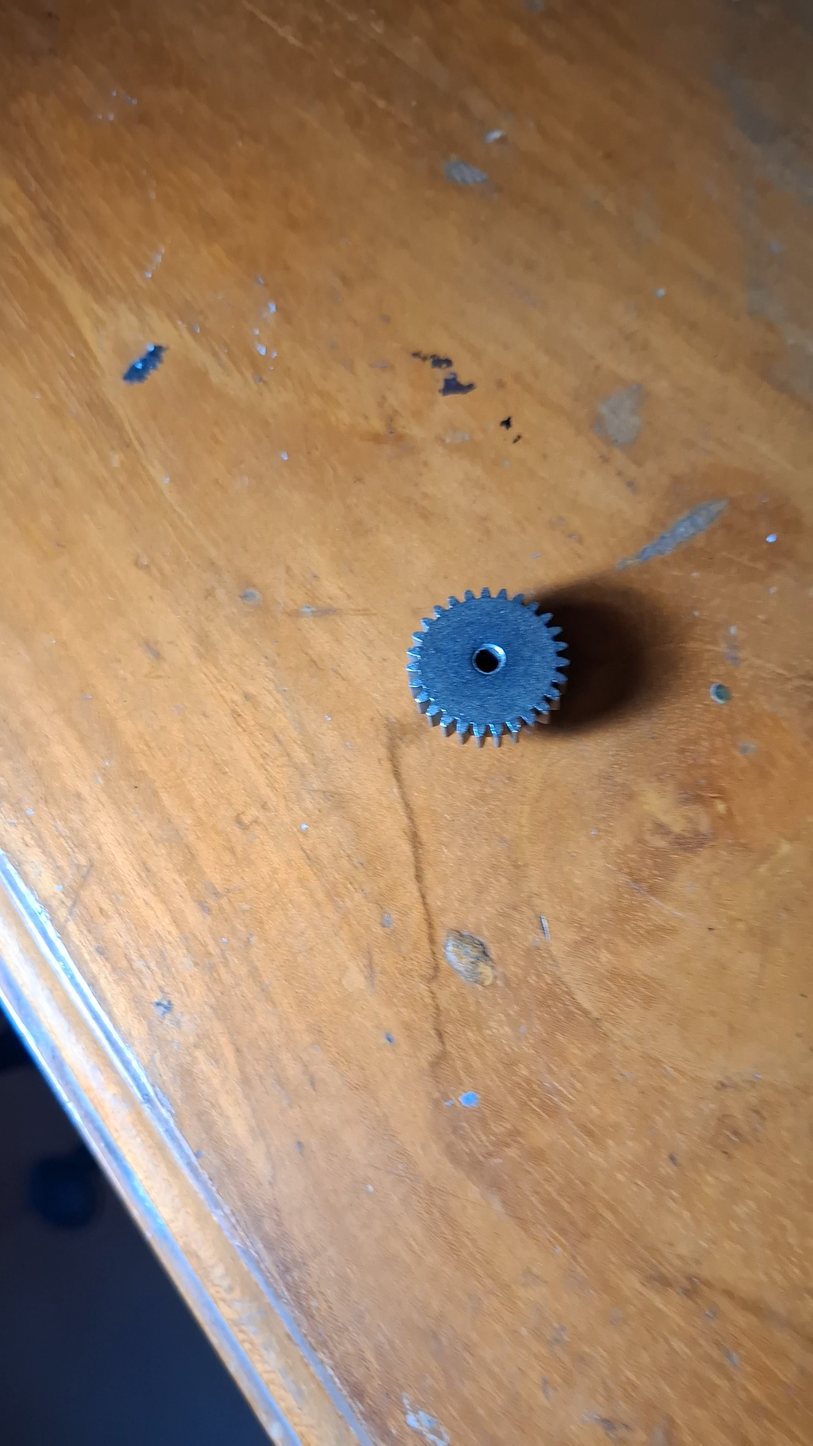spur gear: (407, 589, 568, 745)
